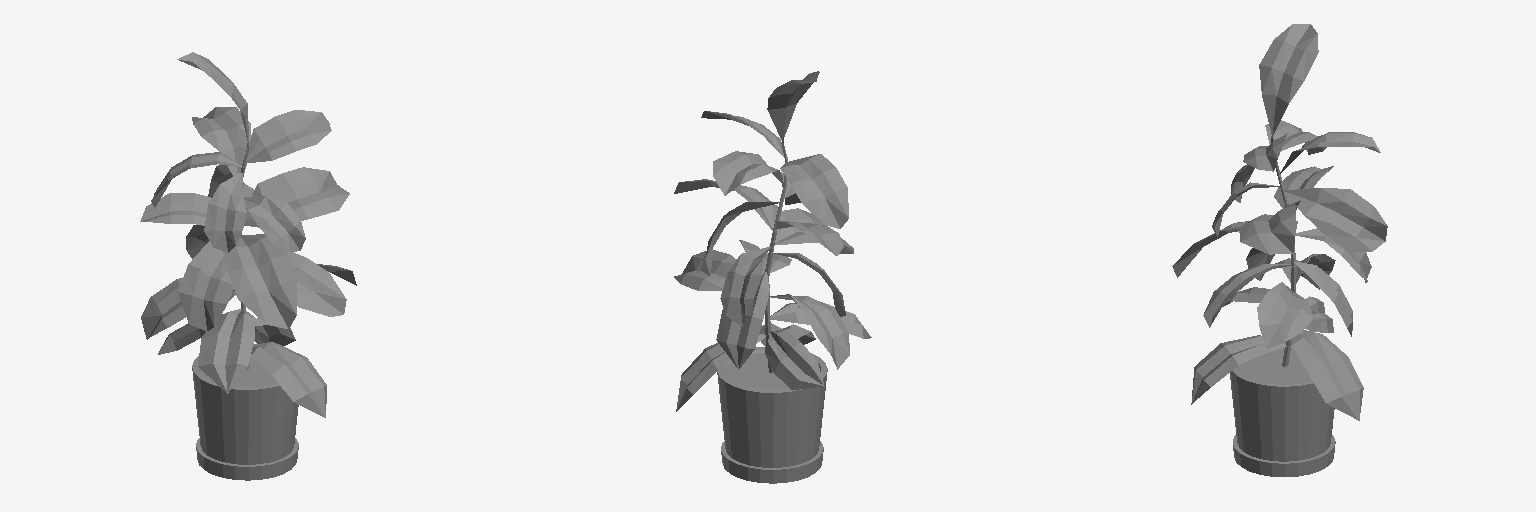
File: CW_Plant_St.obj
3 views of the same model, side by side, from view 1: azimuth 30°, elevation 25°; view 2: azimuth 150°, elevation 25°; view 3: azimuth 270°, elevation 25° (orthographic).
Parts seen in each view (by area): view 1: CW_Plant_St; view 2: CW_Plant_St; view 3: CW_Plant_St.
Part boxes in pixels (bbox=[...]): CW_Plant_St: bbox=[140, 52, 356, 480]; CW_Plant_St: bbox=[674, 71, 871, 483]; CW_Plant_St: bbox=[1172, 24, 1387, 476].
Size of the model in its own units: 93.25 by 193 by 92.36.